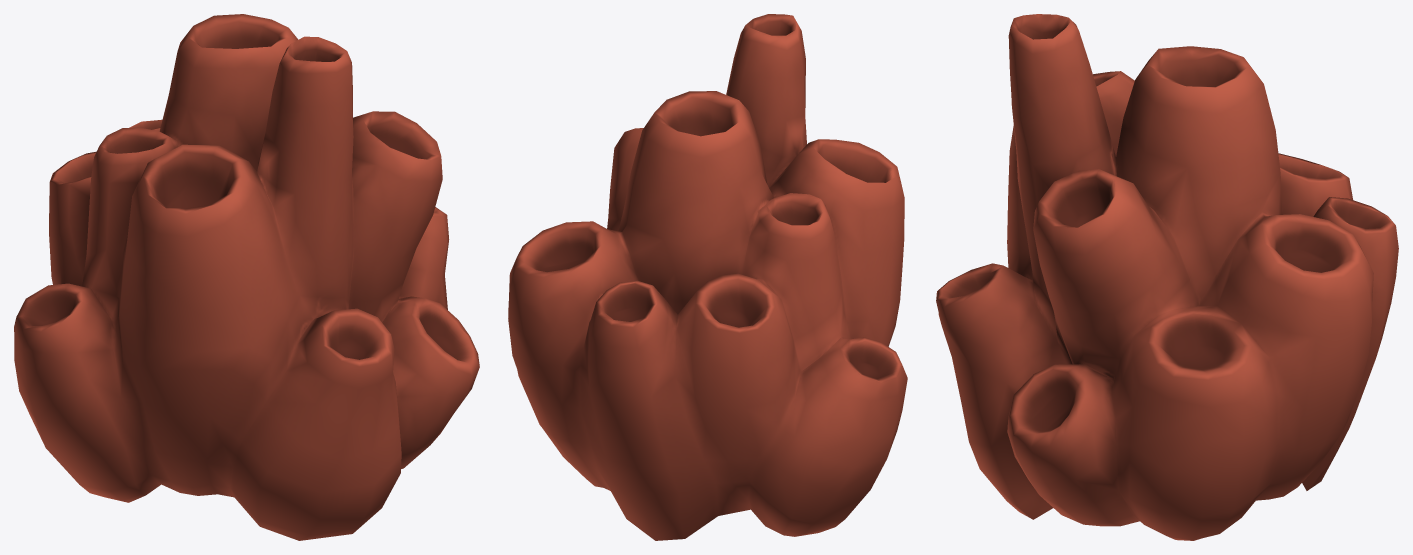
File: coral10_FBX_still.fbx
The picture shows the model from 3 angles, left to right: view 1: azimuth 30°, elevation 25°; view 2: azimuth 150°, elevation 25°; view 3: azimuth 270°, elevation 25°; orthographic projection. The views are drawn at different scales.
Visible parts, largest first — view 1: coral10_gameasset; view 2: coral10_gameasset; view 3: coral10_gameasset.
Part boxes in pixels (<box>): coral10_gameasset: <box>14,14,479,540</box>; coral10_gameasset: <box>508,14,907,540</box>; coral10_gameasset: <box>936,14,1398,540</box>.
Size of the model in its own units: 1.32 by 1.46 by 1.28.
1 material, 1 textured.
